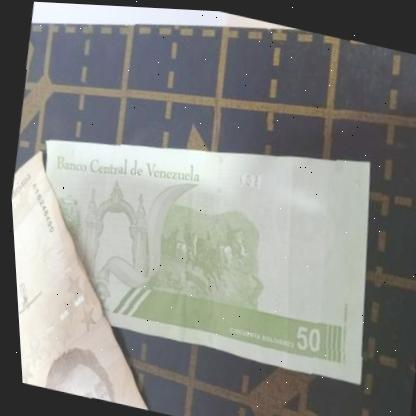fifty-back-vef: (10, 86, 395, 381)
